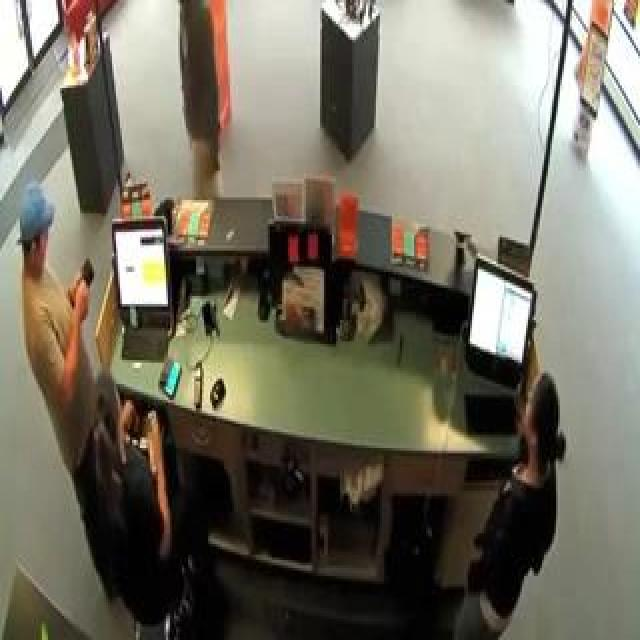low_con: (11, 185, 59, 288)
no_con: (518, 372, 567, 471), (94, 363, 128, 464)
